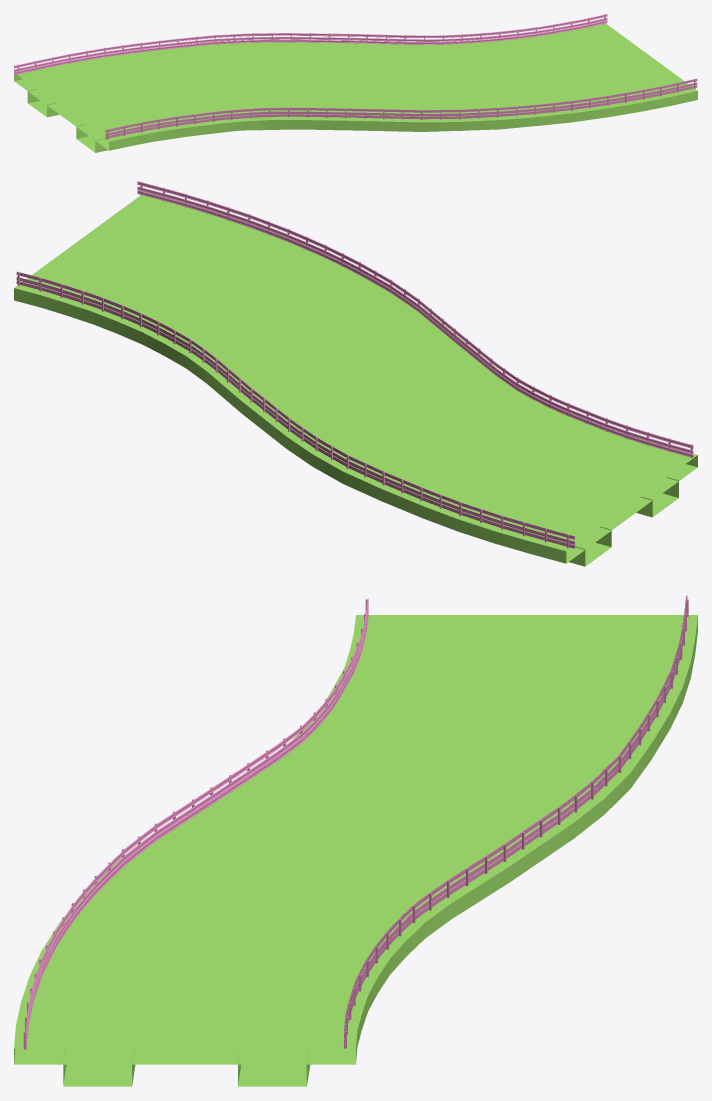
The model's file is RoadSiekainRL.fbx.
3 views of the same model, one above another, from view 1: azimuth 30°, elevation 25°; view 2: azimuth 150°, elevation 25°; view 3: azimuth 270°, elevation 25° (orthographic). The views are drawn at different scales.
Visible parts, largest first — view 1: RoadSiekainRL, RailingSiekainRL; view 2: RoadSiekainRL, RailingSiekainRL; view 3: RoadSiekainRL, RailingSiekainRL.
Part boxes in pixels (left/top/right/bottom): RoadSiekainRL: left=14, top=21, right=697, bottom=152; RailingSiekainRL: left=14, top=14, right=697, bottom=139; RoadSiekainRL: left=14, top=192, right=697, bottom=566; RailingSiekainRL: left=16, top=181, right=693, bottom=548; RoadSiekainRL: left=14, top=615, right=697, bottom=1086; RailingSiekainRL: left=23, top=595, right=688, bottom=1049.
Size of the model in its own units: 6067 by 353 by 4000.
